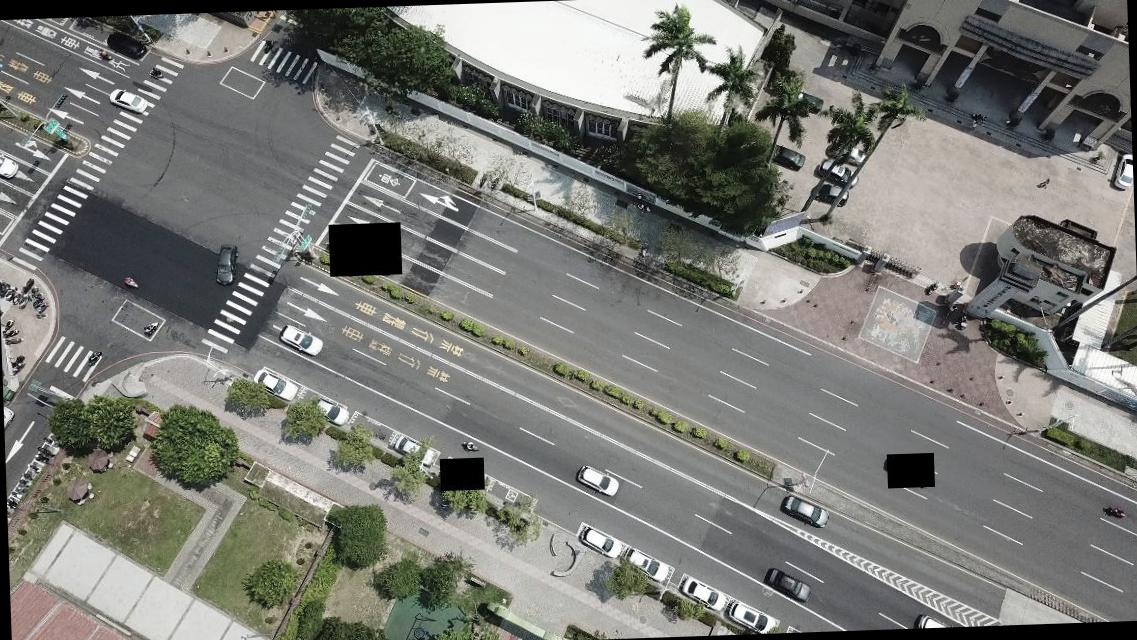vehicle: (782, 494, 828, 530), (766, 567, 809, 602), (727, 603, 775, 634), (681, 577, 724, 611), (576, 526, 620, 558), (575, 466, 618, 498), (624, 549, 667, 581), (391, 435, 435, 466), (253, 371, 296, 401), (278, 325, 320, 355), (818, 158, 859, 188), (106, 30, 147, 59), (108, 85, 148, 113), (763, 141, 803, 169), (310, 398, 348, 427), (825, 140, 868, 164), (814, 182, 850, 206), (214, 244, 235, 284), (1112, 152, 1132, 191), (792, 88, 823, 112), (914, 611, 949, 628), (0, 149, 19, 179)
